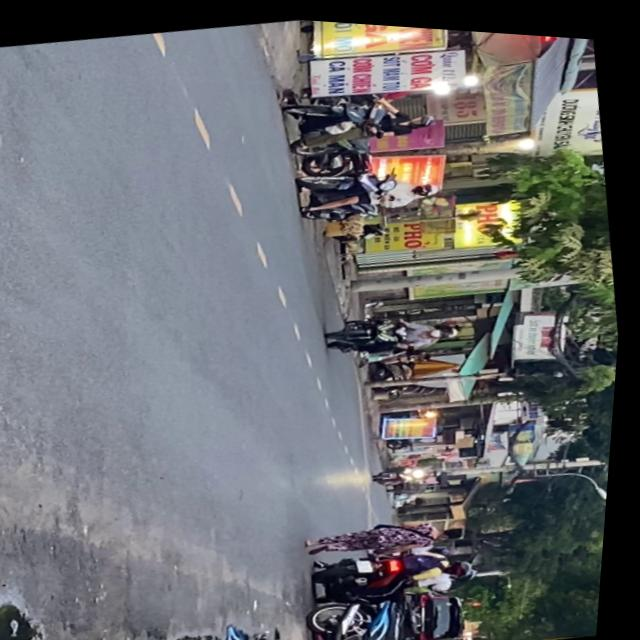helmet: (452, 551, 481, 570), (416, 173, 445, 191), (412, 105, 439, 122)
licenseplate: (315, 528, 490, 610), (278, 70, 444, 153), (295, 149, 451, 228)
nohelmet: (364, 552, 383, 568)
